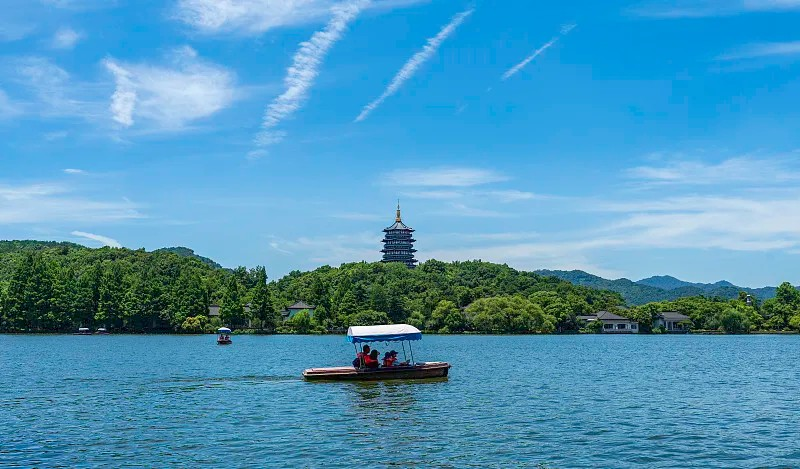Leifeng: (380, 197, 418, 268)
